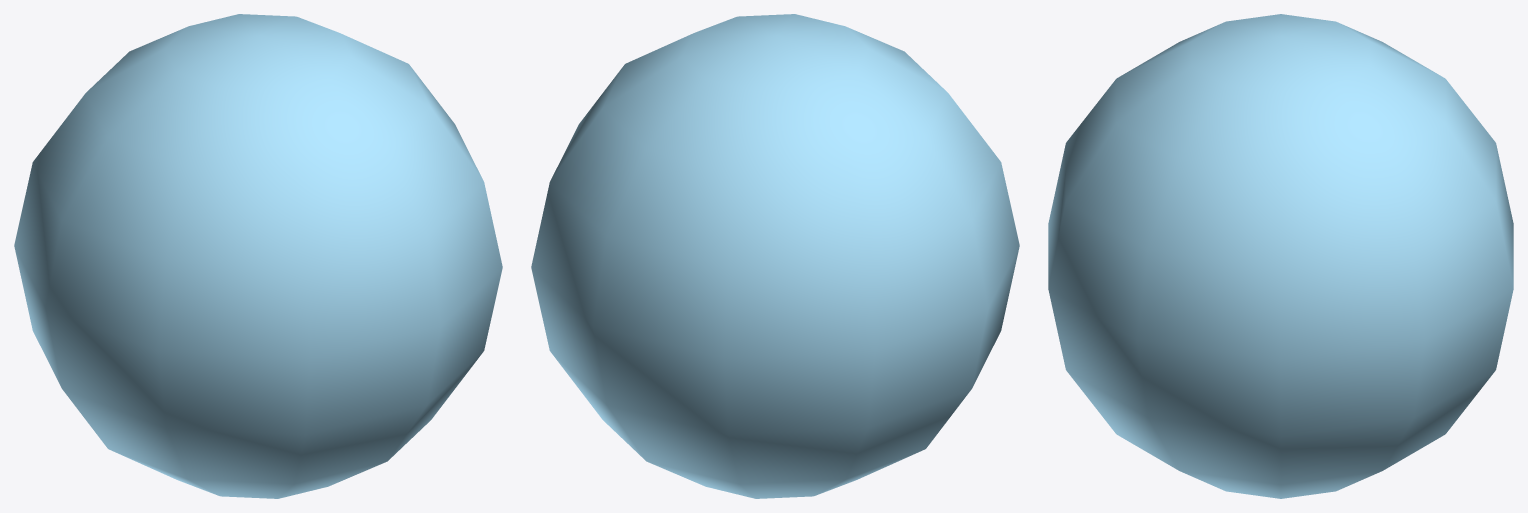
The model's file is windows.dae.
3 renders of one model, left to right at view 1: azimuth 30°, elevation 25°; view 2: azimuth 150°, elevation 25°; view 3: azimuth 270°, elevation 25°, orthographic.
Parts seen in each view (by area): view 1: windows; view 2: windows; view 3: windows.
Part boxes in pixels (x1,y1,x2,y2): windows: [14, 14, 502, 498]; windows: [531, 14, 1019, 498]; windows: [1048, 14, 1513, 498].
Bounding box in the file's own units: 3.15 × 3 × 3.12.
